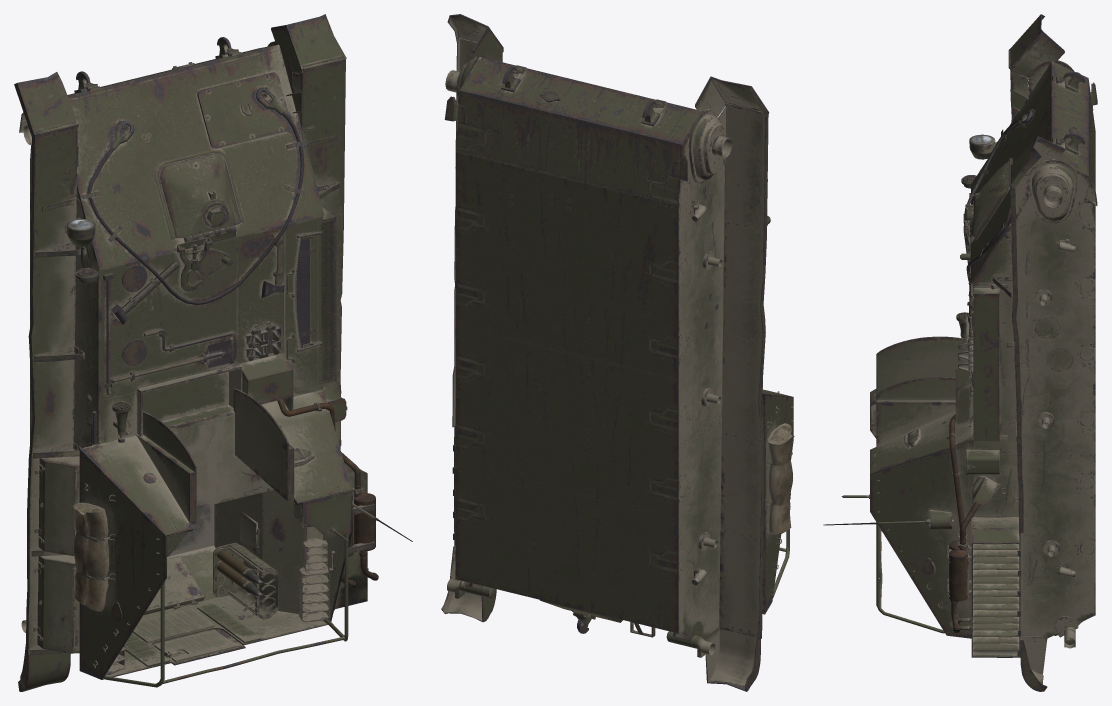
Rendered from Hull.glb.
The picture shows the model from 3 angles, left to right: view 1: azimuth 30°, elevation 25°; view 2: azimuth 150°, elevation 25°; view 3: azimuth 270°, elevation 25°; orthographic projection. The views are drawn at different scales.
Parts seen in each view (by area): view 1: set_0_group_0; view 2: set_0_group_0; view 3: set_0_group_0.
Part boxes in pixels (<box>): set_0_group_0: <box>14,14,412,691</box>; set_0_group_0: <box>441,14,794,691</box>; set_0_group_0: <box>823,14,1097,691</box>.
Size of the model in its own units: 2.82 by 5.24 by 2.38.
1 material, 1 textured.
